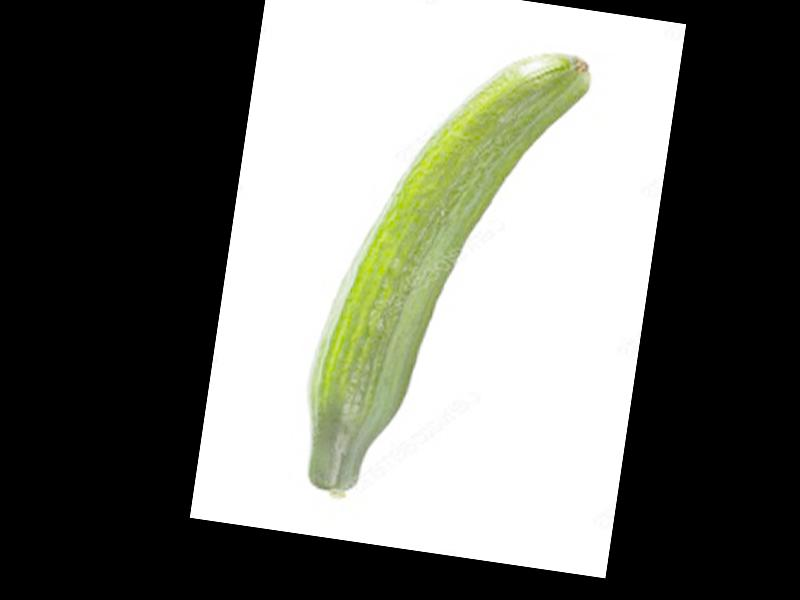Cucumber: (292, 24, 595, 527)
